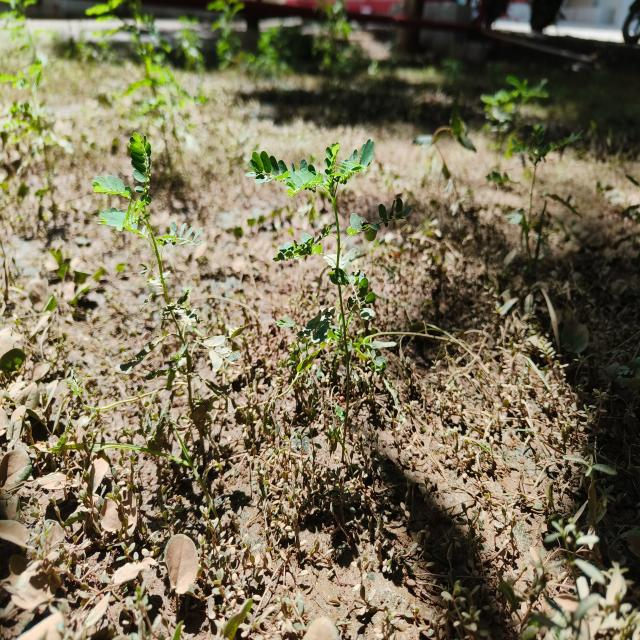weed: (256, 132, 386, 409), (105, 138, 181, 337)
